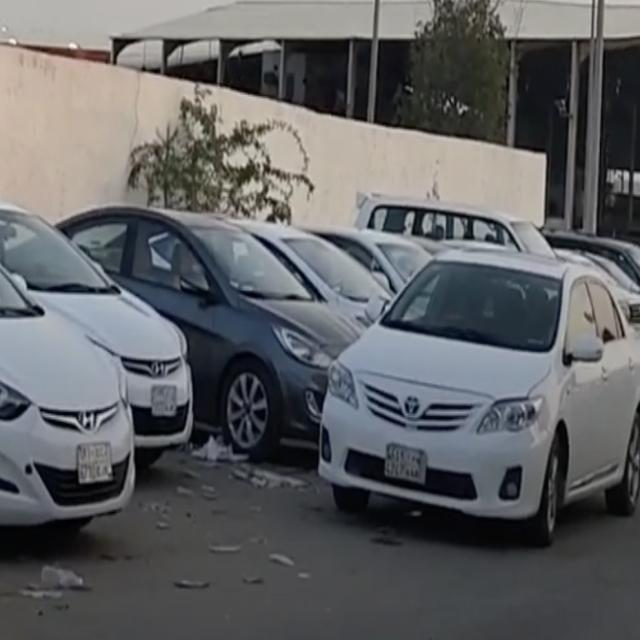license_plate: (379, 439, 431, 485), (74, 438, 114, 489), (150, 382, 180, 421)
